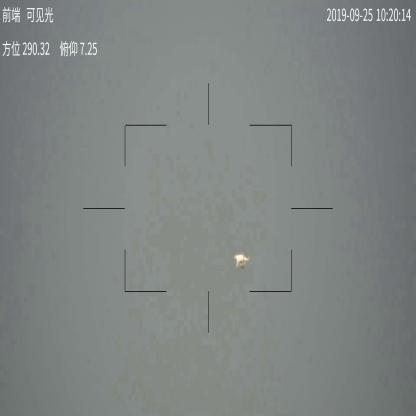uav: (234, 251, 252, 270)
